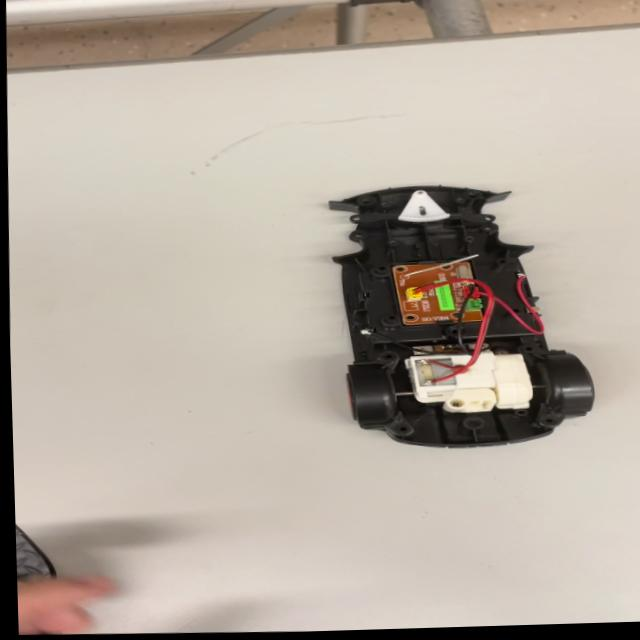Chassis: (328, 173, 575, 453)
